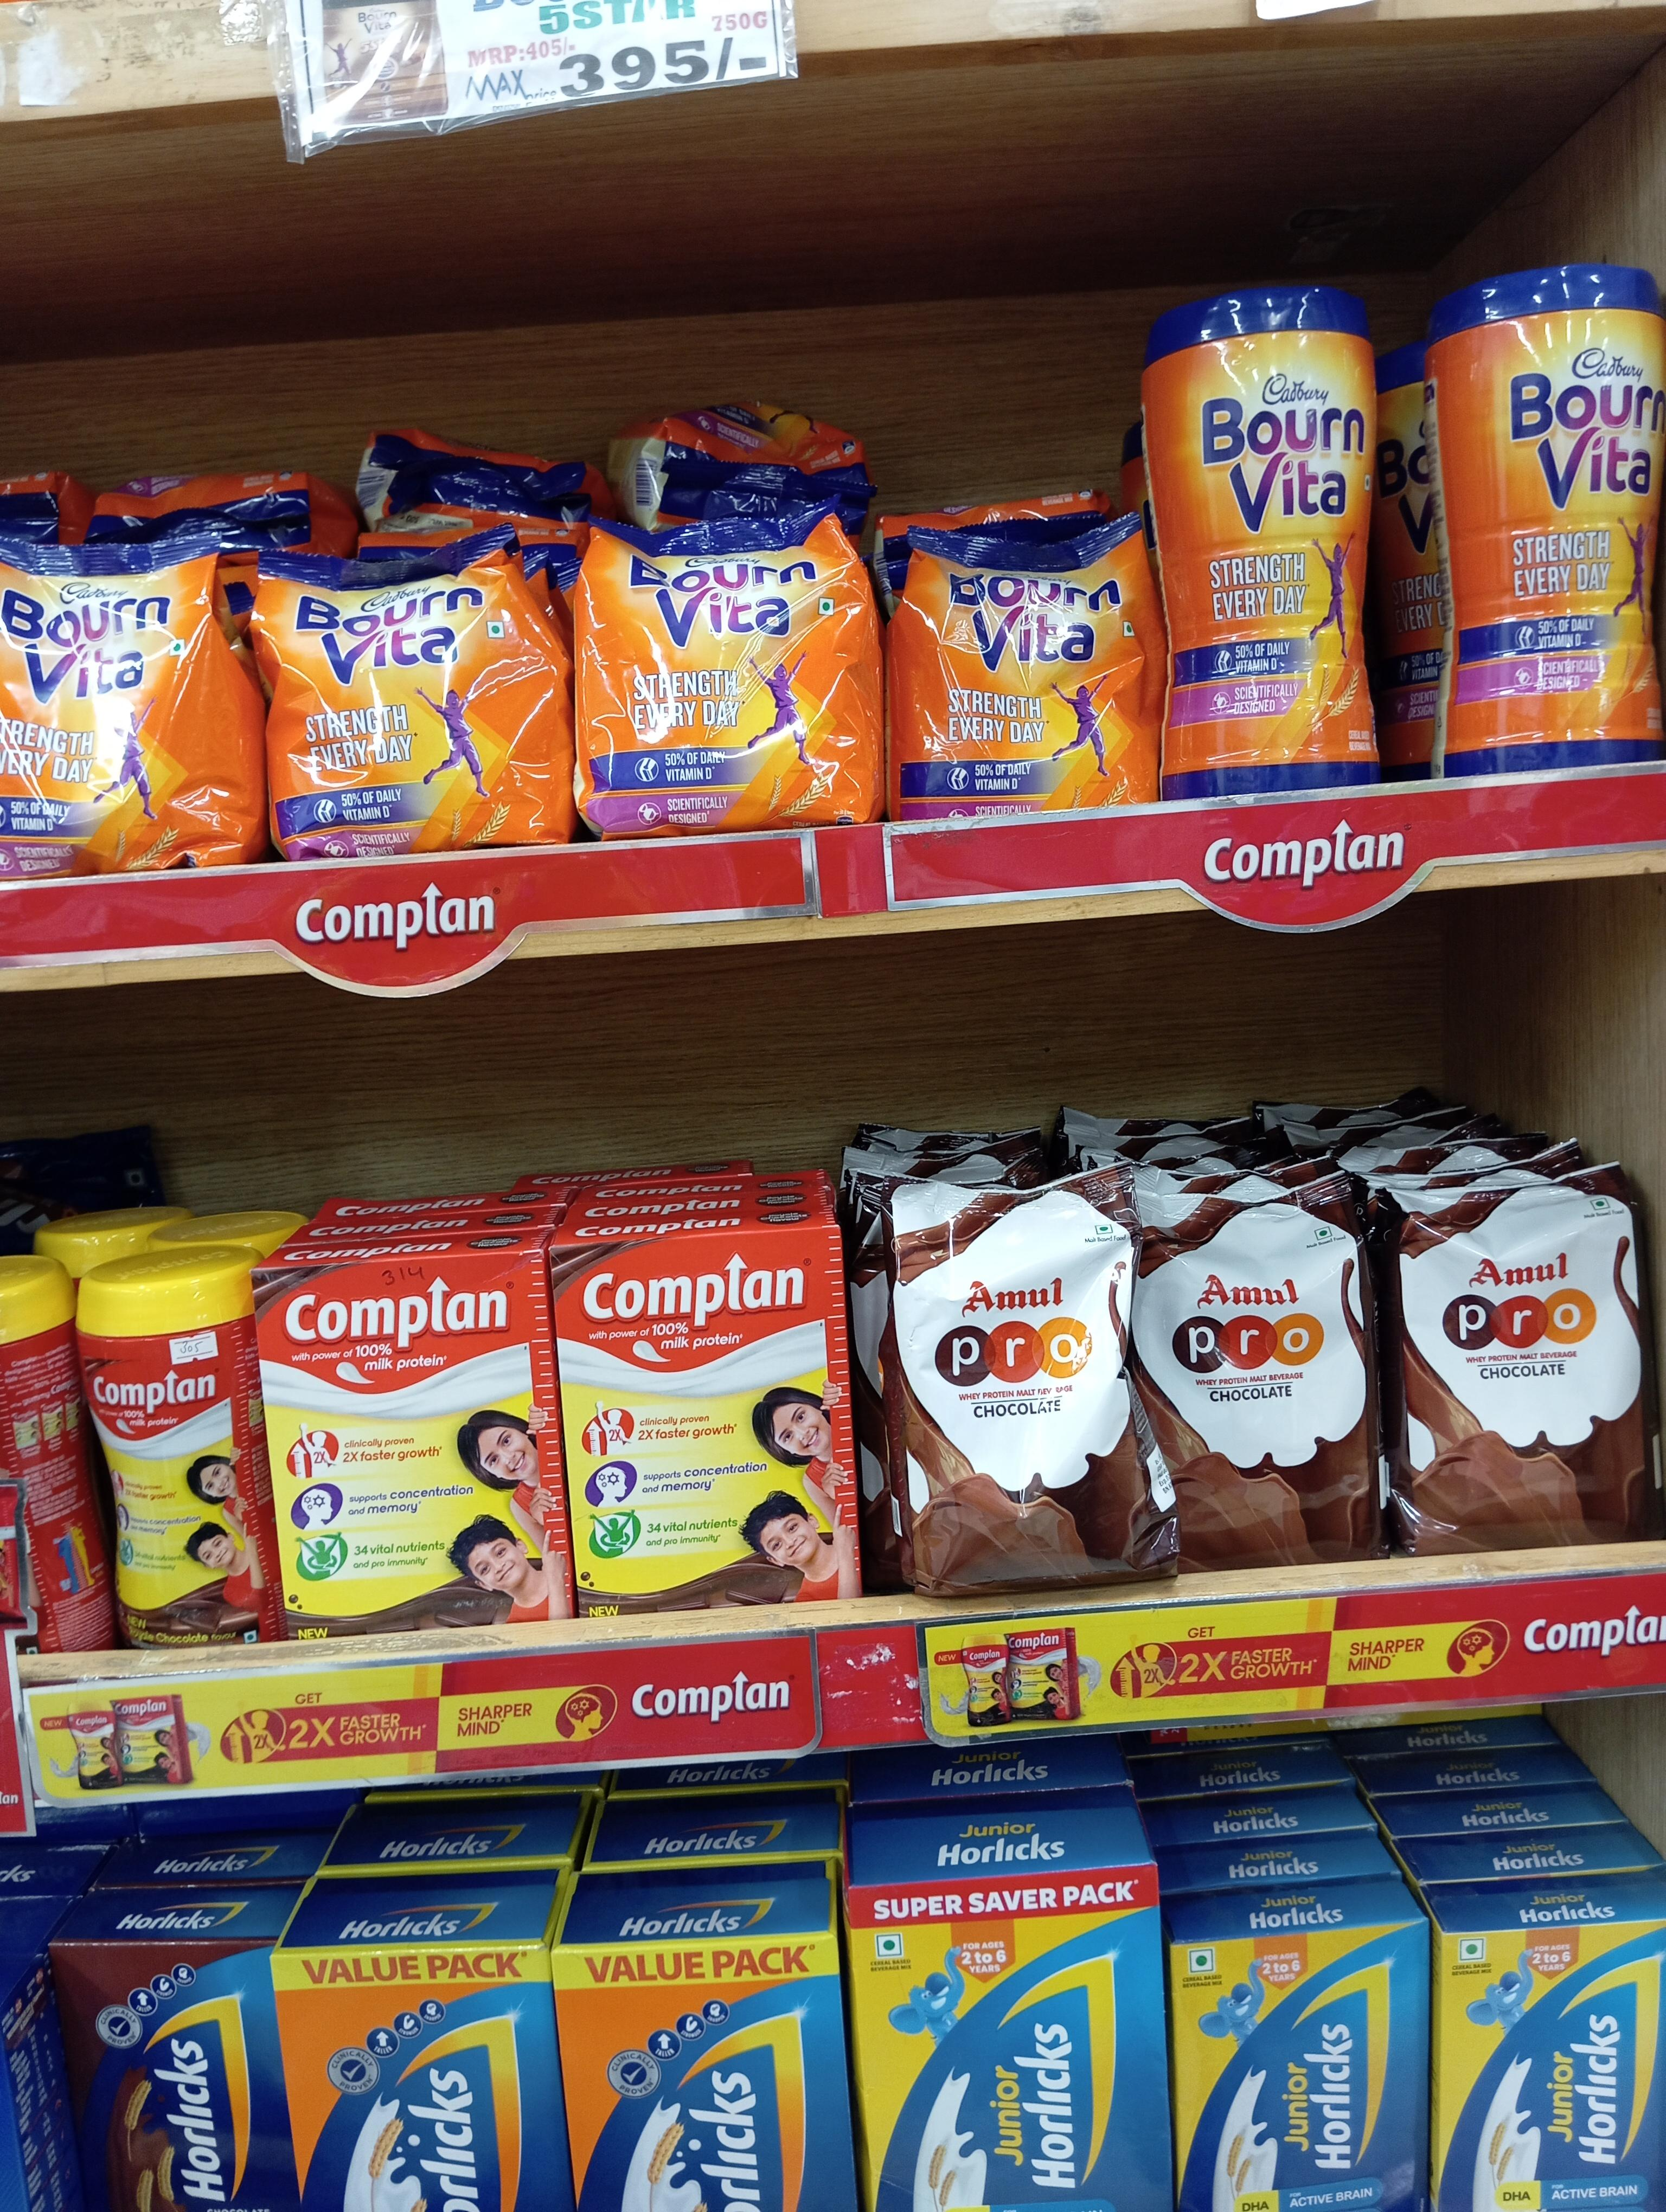BOURN_VITA_1_KG_JAR: (1426, 262, 1666, 775), (1160, 282, 1389, 790)
BOURN_VITA_500_G_POUCH: (578, 509, 873, 831), (268, 551, 560, 845), (0, 526, 256, 862), (886, 519, 1139, 815)
COMPLAN_CHOCOLATE_500_GMS_JAR: (79, 1245, 247, 1649)
COMPLAN_CHOCOLATE_500_GMS_PACK: (562, 1236, 858, 1603), (266, 1257, 551, 1637)
